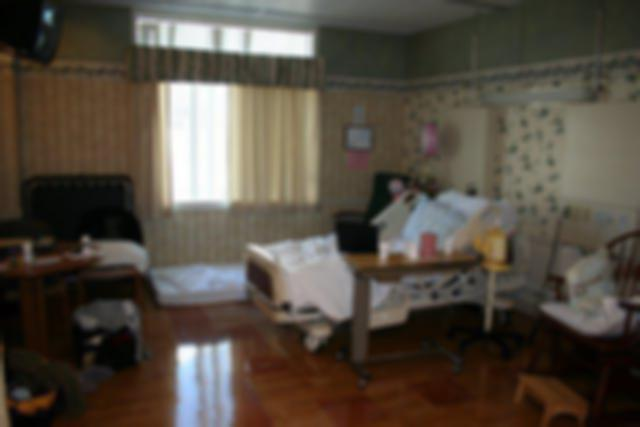Otro Obstaculo: (69, 293, 143, 379), (4, 345, 70, 420)
